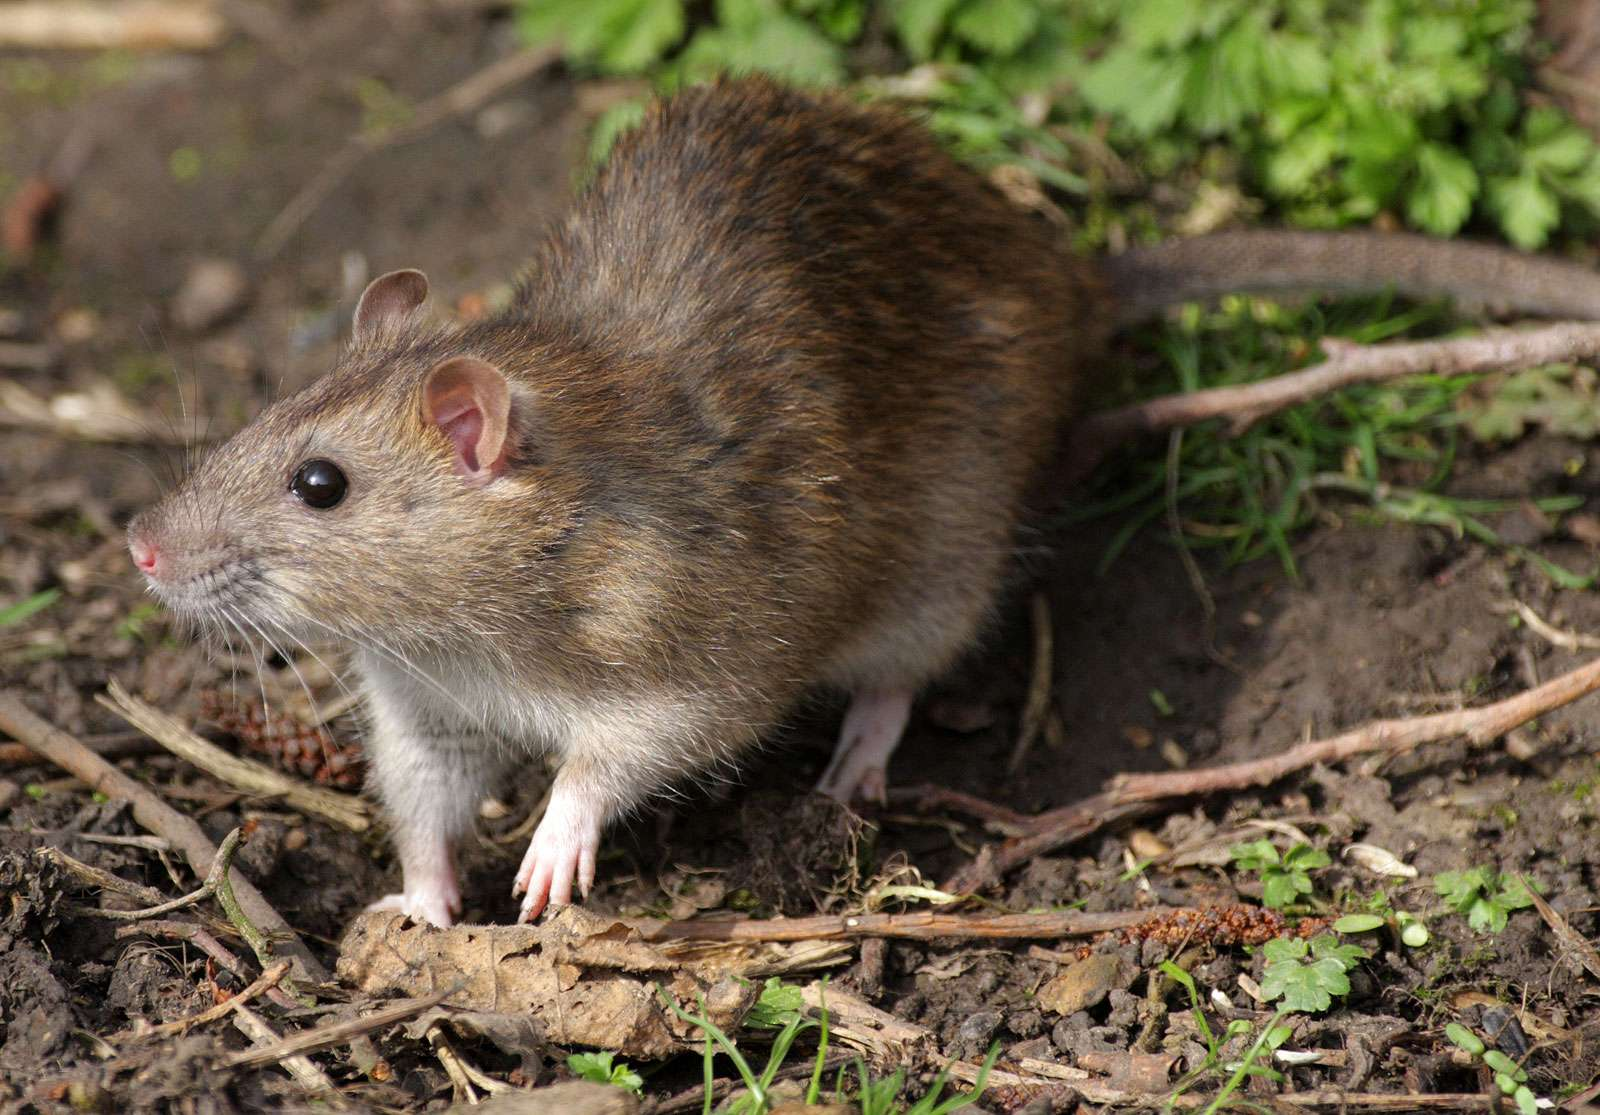Rat: (113, 50, 1111, 945)
